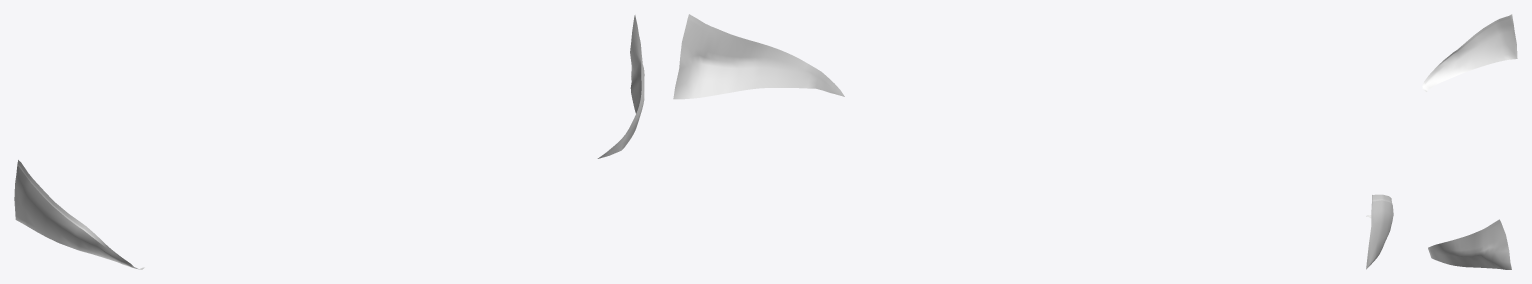
Rendered from Pants_Flic_Knee_FACE.glb.
The picture shows the model from 3 angles, left to right: view 1: azimuth 30°, elevation 25°; view 2: azimuth 150°, elevation 25°; view 3: azimuth 270°, elevation 25°; orthographic projection. The views are drawn at different scales.
Visible parts, largest first — view 1: Pants_Decor_Knee_1.001; view 2: Pants_Decor_Knee_1.001; view 3: Pants_Decor_Knee_1.001, Pants_Rope_Decor_Knee_1.001.
Part boxes in pixels (x1,y1,x2,y2): Pants_Decor_Knee_1.001: (14, 15, 644, 269); Pants_Decor_Knee_1.001: (673, 14, 1393, 269); Pants_Decor_Knee_1.001: (1422, 14, 1517, 269); Pants_Rope_Decor_Knee_1.001: (1429, 221, 1500, 247).
Bounding box in the file's own units: 0.8133 × 0.1108 × 0.1553.
Materials: 2 (2 with a texture image).
